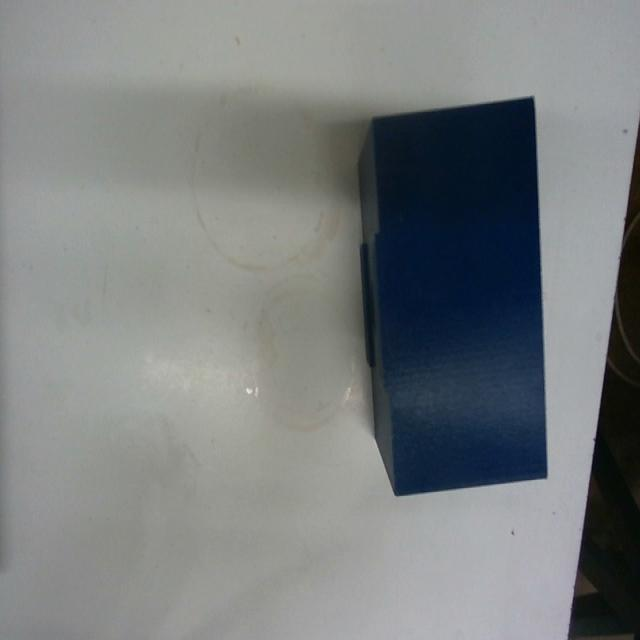Blue Cuboid: (354, 92, 550, 497)
